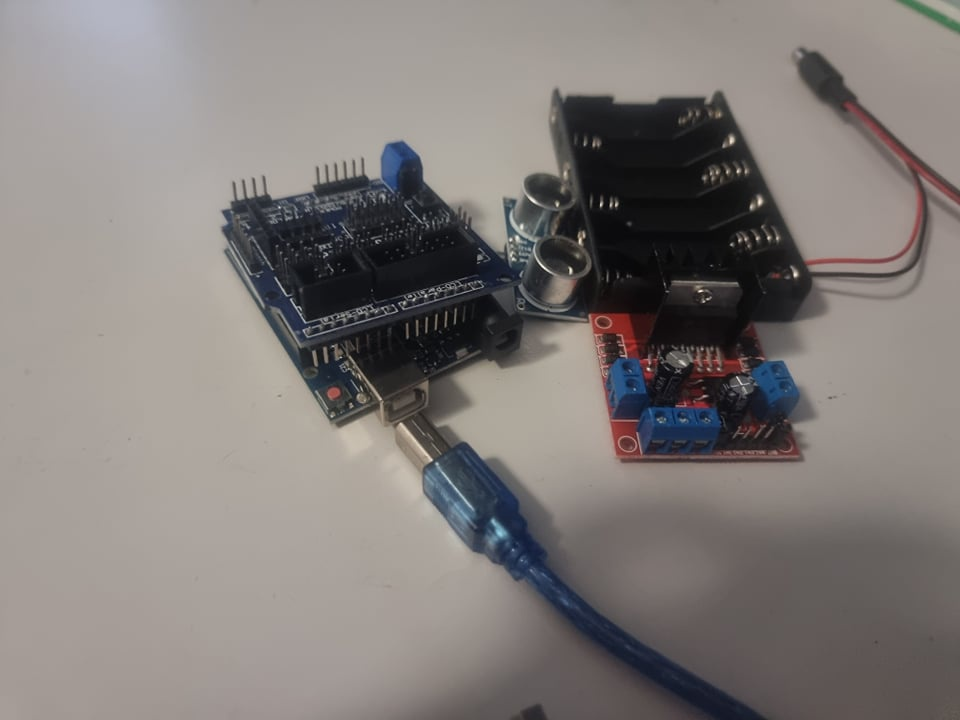5V EXPANSION: (221, 141, 518, 319)
BATTERY BOX: (541, 90, 811, 322)
MOTOR: (603, 254, 806, 466)
SENSOR: (496, 170, 589, 324)
UNO R3: (308, 316, 545, 430)
